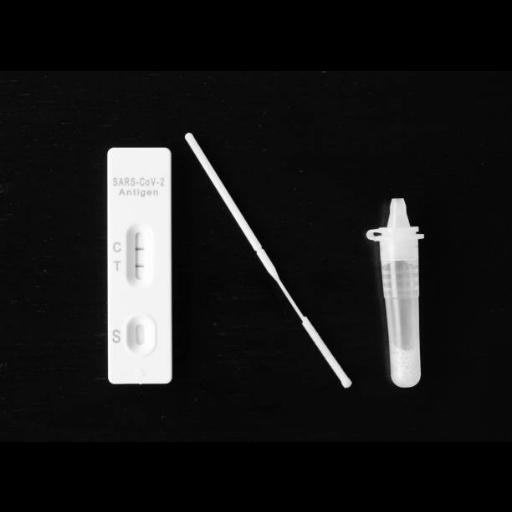Pos: (106, 145, 172, 383)
